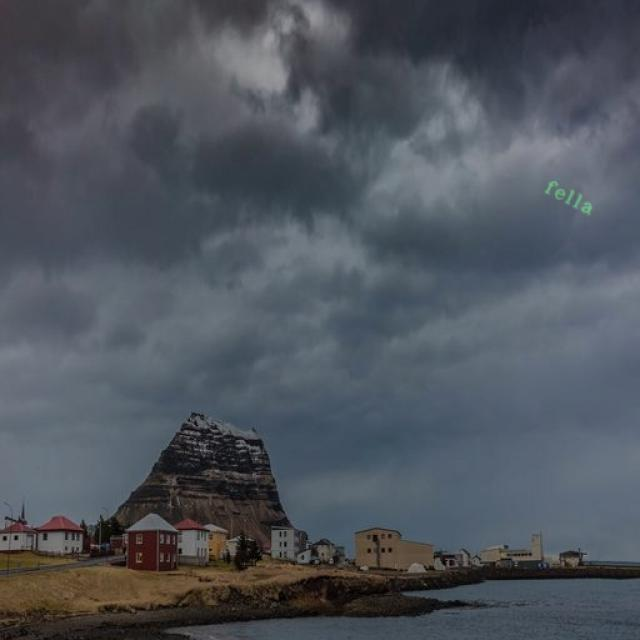watermark: (537, 175, 604, 218)
